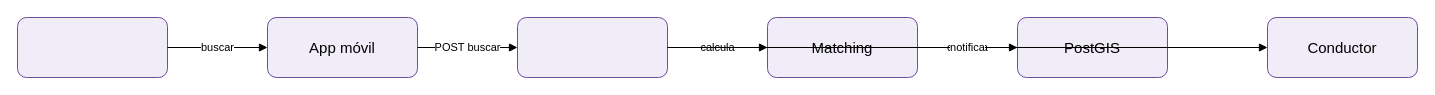
This 1435x95 diagram has some shape labels left out. The shapes that lost their labels are listed below. From the top down, each one's box as (x1, y1, x2, y2) in pixels, then its label:
(16, 16, 168, 78): Pasajero
(516, 16, 668, 78): API FastAPI
